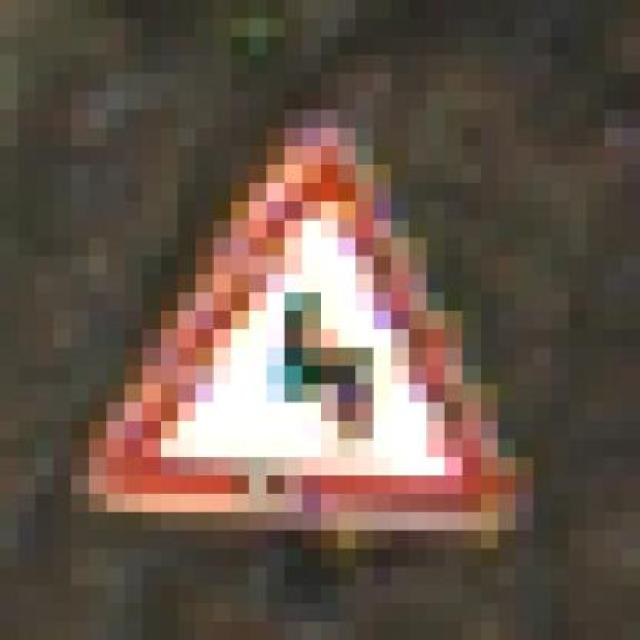Left Zig Zag Traffic: (71, 73, 551, 567)
